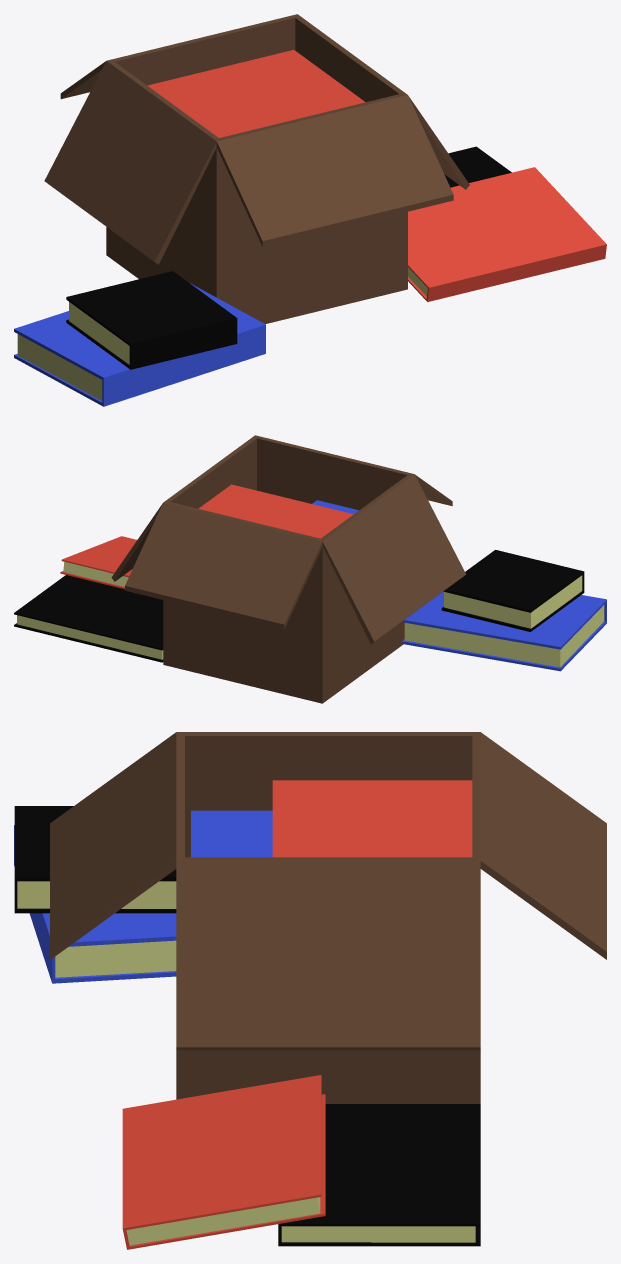
The model's file is Caixa De Livros.fbx.
3 renders of one model, top to bottom at view 1: azimuth 30°, elevation 25°; view 2: azimuth 150°, elevation 25°; view 3: azimuth 270°, elevation 25°, orthographic. The views are drawn at different scales.
Visible parts, largest first — view 1: Cube.007, Cube.004, Cube.002, Cube, Cube.001, Cube.003; view 2: Cube.007, Cube.001, Cube.003, Cube.002, Cube, Cube.004; view 3: Cube.007, Cube.004, Cube.003, Cube, Cube.001, Cube.002, Cube.005.
Boxes of the visible parts, left/top/right/bottom form: Cube.007: left=44, top=14, right=469, bottom=323; Cube.004: left=408, top=167, right=606, bottom=301; Cube.002: left=66, top=271, right=237, bottom=369; Cube: left=147, top=50, right=365, bottom=137; Cube.001: left=14, top=283, right=265, bottom=406; Cube.003: left=444, top=146, right=511, bottom=187; Cube.007: left=111, top=435, right=466, bottom=703; Cube.001: left=402, top=591, right=606, bottom=671; Cube.003: left=14, top=575, right=163, bottom=662; Cube.002: left=441, top=550, right=584, bottom=631; Cube: left=198, top=484, right=353, bottom=538; Cube.004: left=60, top=536, right=136, bottom=589; Cube.007: left=50, top=732, right=606, bottom=1103; Cube.004: left=122, top=1075, right=325, bottom=1249; Cube.003: left=278, top=1104, right=480, bottom=1246; Cube: left=272, top=780, right=472, bottom=857; Cube.001: left=14, top=825, right=176, bottom=983; Cube.002: left=14, top=806, right=176, bottom=913; Cube.005: left=191, top=810, right=272, bottom=857.
Size of the model in its own units: 94.1 by 31.27 by 62.61.
